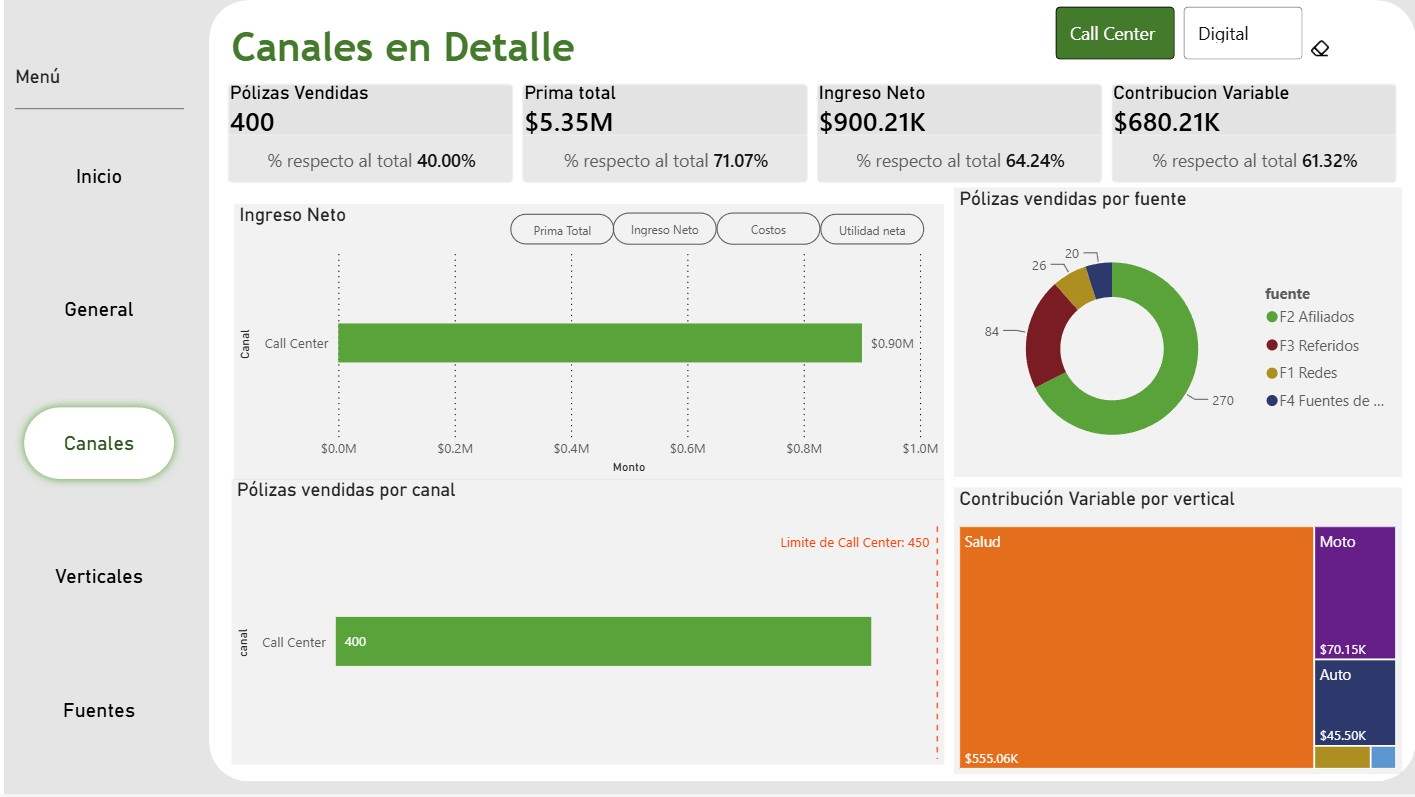

This screenshot's page, from the dashboard's own definition file:
{"tool":"powerbi","page":{"name":"Canales","canvas":[1280,720],"ordinal":2},"visuals":[{"type":"pageNavigator","title":"Menú","box":[10,58.6,152.9,627.1],"z":0},{"type":"shape","box":[186.2,0,1094.3,708.6],"z":1000},{"type":"textbox","title":"Canales en Detalle","box":[185.3,17.4,1083.5,62.2],"z":2000},{"type":"cardVisual","fields":{"Data":["Sum(Ventas_Canal.cantidad)","Ventas_Canal.Ingreso Bruto","Ventas_Canal.Ingreso Neto","Ventas_Canal.Contribucion Variable"]},"box":[186.2,70,1093.8,123.8],"z":3000},{"type":"barChart","title":"Costos por canal","fields":{"Category":["Canales.canal"],"Y":["Canales.Gasto MKT Canal","Sum(Canales.costos_fijos_mensuales)","Canales.Costos Variables por Canal"]},"box":[208.6,184.3,644.3,248.6],"z":4000},{"type":"treemap","title":"Contribución Variable por vertical","fields":{"Group":["Verticales.vertical"],"Values":["Ventas_Canal.Contribucion Variable"]},"box":[862,442,406,260],"z":5000},{"type":"advancedSlicerVisual","fields":{"Values":["Canales.canal"]},"box":[1022.9,11.4,235.7,58.6],"z":6000},{"type":"donutChart","title":"Pólizas vendidas por fuente","fields":{"Category":["Fuentes.fuente"],"Y":["Canales.Pólizas vendidas por fuente"]},"box":[862.9,185.7,405.7,247.1],"z":7000},{"type":"actionButton","box":[458.8,193.8,94.3,27.9],"z":11000},{"type":"actionButton","box":[552.5,192.5,94.3,29.3],"z":12000},{"type":"actionButton","box":[646.2,192.5,94.3,29.3],"z":13000},{"type":"actionButton","box":[740,193.8,94.3,27.9],"z":14000},{"type":"barChart","title":"Pólizas vendidas por canal","fields":{"Category":["Canales.canal"],"Y":["Sum(Ventas_Canal.cantidad)"]},"box":[208,442,644,260],"z":15000},{"type":"image","box":[1258.6,40.7,17.9,23.6],"z":16000}]}

Visuals, with their boxes in screenshot pixels (x1, y1, x2, y2), scaled from the page's 1280x720 canvas onto the 1415x797 screenshot:
"Menú" pageNavigator: [11, 65, 180, 759]
shape: [206, 0, 1414, 784]
"Canales en Detalle" textbox: [205, 19, 1403, 88]
cardVisual - Sum(Ventas_Canal.cantidad) x Ventas_Canal.Ingreso Bruto: [206, 77, 1414, 215]
"Costos por canal" barChart: [231, 204, 943, 479]
"Contribución Variable por vertical" treemap: [953, 489, 1402, 777]
advancedSlicerVisual - Canales.canal: [1131, 13, 1391, 77]
"Pólizas vendidas por fuente" donutChart: [954, 206, 1402, 479]
actionButton: [507, 215, 611, 245]
actionButton: [611, 213, 715, 246]
actionButton: [714, 213, 819, 246]
actionButton: [818, 215, 922, 245]
"Pólizas vendidas por canal" barChart: [230, 489, 942, 777]
image: [1391, 45, 1411, 71]
